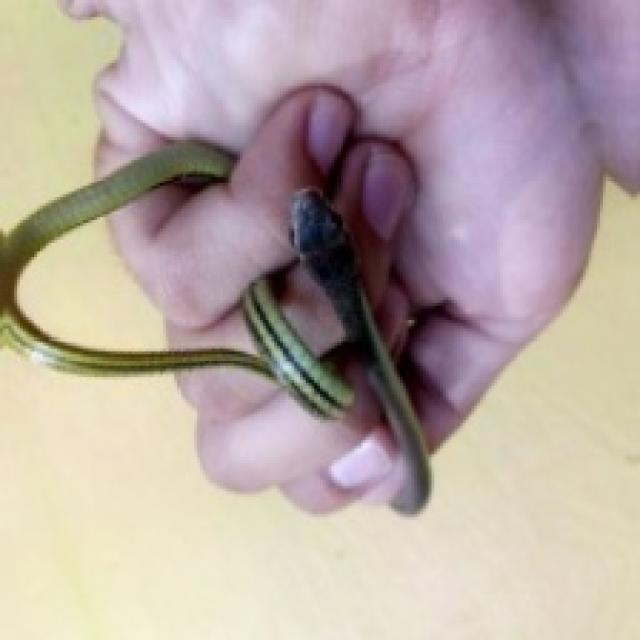luzon bronzeback treesnake: (0, 140, 429, 511)
